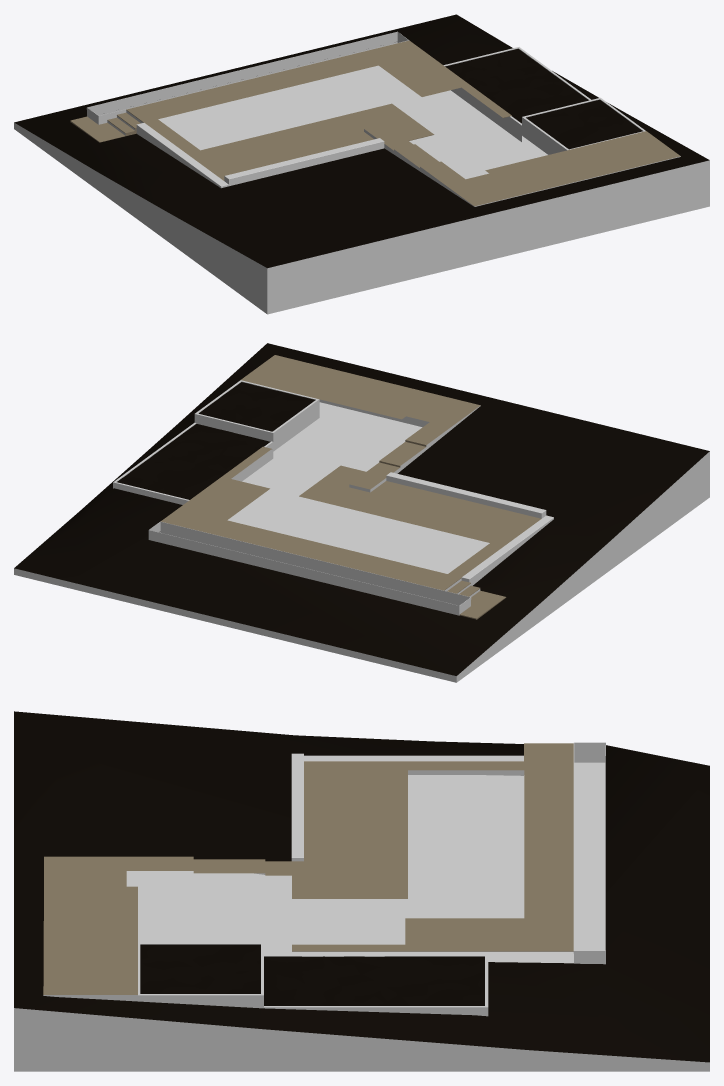
The model's file is groundP.FBX.
3 renders of one model, top to bottom at view 1: azimuth 30°, elevation 25°; view 2: azimuth 150°, elevation 25°; view 3: azimuth 270°, elevation 25°, orthographic. The views are drawn at different scales.
Parts seen in each view (by area): view 1: groundP; view 2: groundP; view 3: groundP.
Boxes of the visible parts, box(x1,y1,x2,y2) form: groundP: box(14, 14, 709, 314); groundP: box(14, 343, 709, 682); groundP: box(14, 711, 709, 1071).
Size of the model in its own units: 3372 by 342 by 3343.
